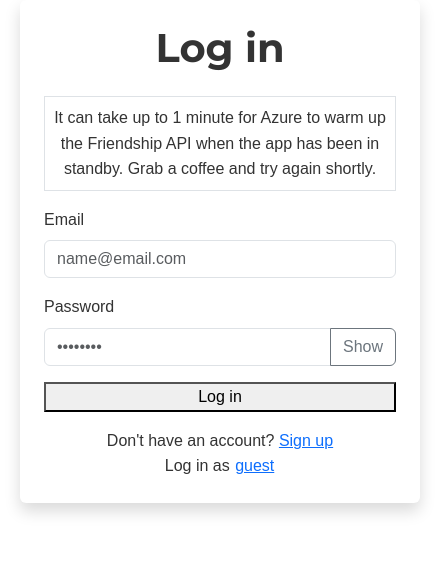
Test: Login integration › shows an error message for invalid credentials
Type "fel@test.com" into the field labelled "Email".
click(220, 259); type("fel@test.com")  # box [44,240,396,278]
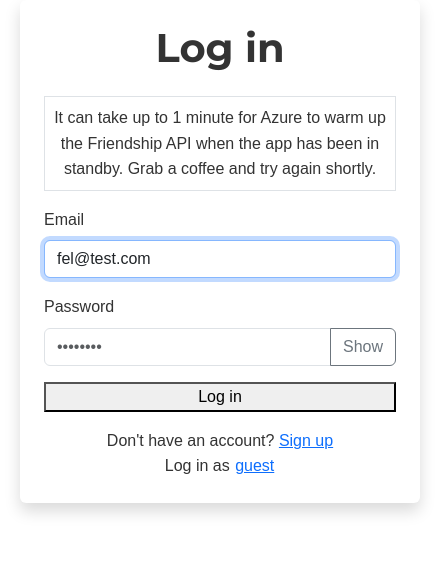
Type "wrongpass" into the password field labelled "Password".
click(188, 347); type("wrongpass")  # box [44,328,331,366]
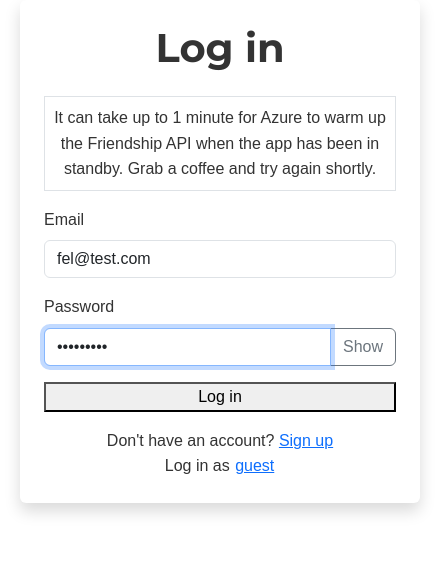
Click the button "Log in".
click(220, 397)  # box [44,382,396,412]
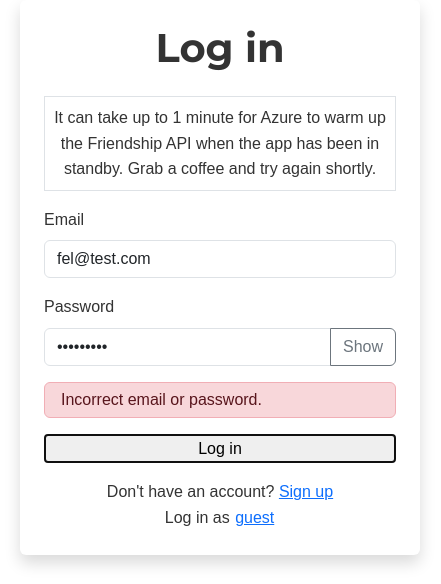
Check: the text "Incorrect email or password." is shown, box [61,391,262,408]
